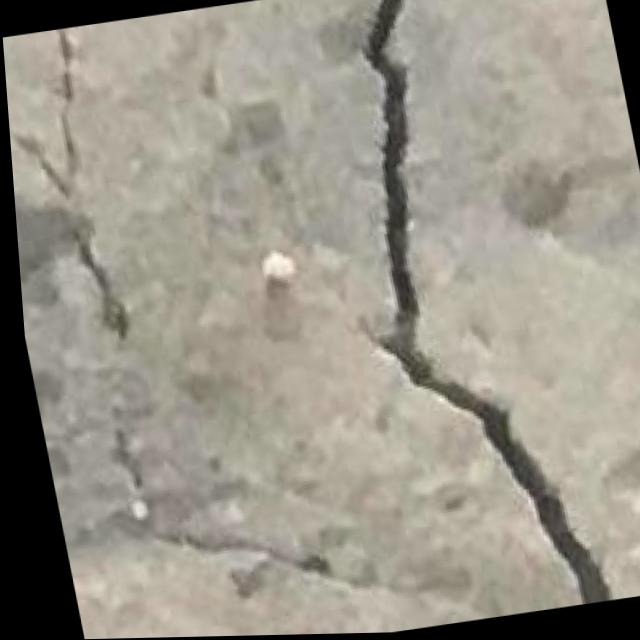Crack: (299, 0, 604, 630), (91, 371, 434, 639), (2, 29, 126, 357)
